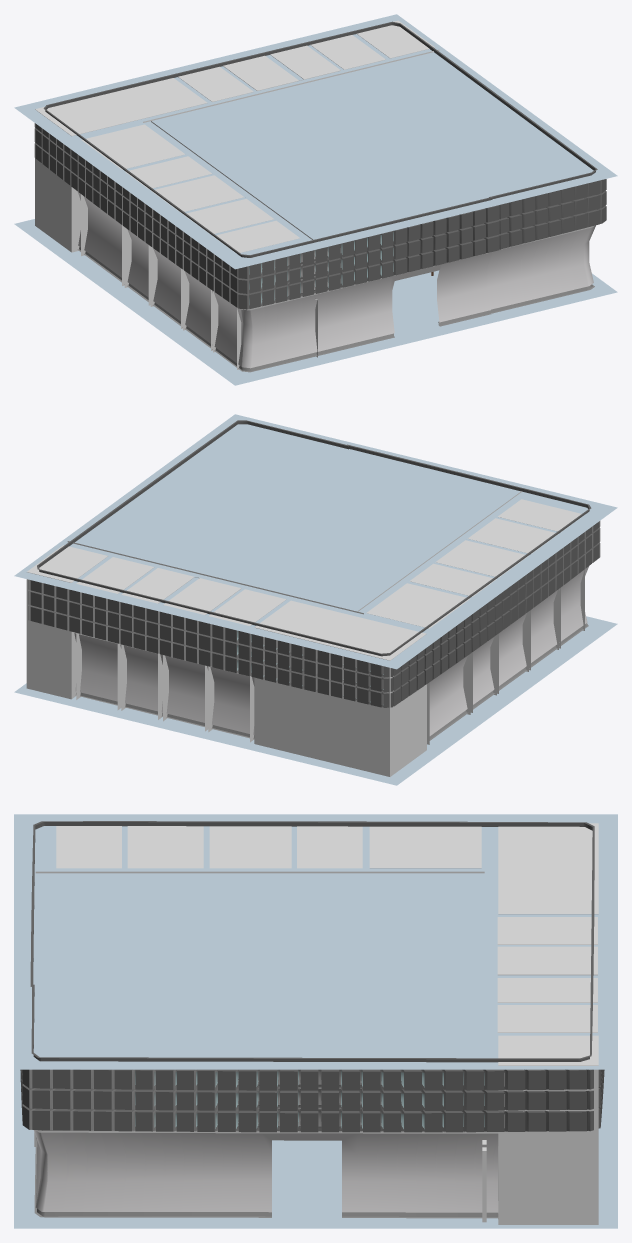
The model's file is m_SmallRoom_c_Cellblock.fbx.
The picture shows the model from 3 angles, top to bottom: view 1: azimuth 30°, elevation 25°; view 2: azimuth 150°, elevation 25°; view 3: azimuth 270°, elevation 25°; orthographic projection. The views are drawn at different scales.
Parts seen in each view (by area): view 1: m_smallRoom001.006, Cube.032, Cube.033; view 2: m_smallRoom001.006, Cube.032, Cube.033; view 3: m_smallRoom001.006, Cube.032, Cube.033.
Part boxes in pixels (x1=…): m_smallRoom001.006: x1=14, y1=14, x2=617, y2=385; Cube.032: x1=35, y1=20, x2=439, y2=252; Cube.033: x1=81, y1=121, x2=317, y2=369; m_smallRoom001.006: x1=14, y1=414, x2=617, y2=785; Cube.032: x1=26, y1=541, x2=426, y2=776; Cube.033: x1=357, y1=491, x2=584, y2=744; m_smallRoom001.006: x1=14, y1=814, x2=617, y2=1228; Cube.032: x1=482, y1=823, x2=598, y2=1224; Cube.033: x1=35, y1=826, x2=484, y2=873.
Size of the model in its own units: 1515 by 453 by 1515.
